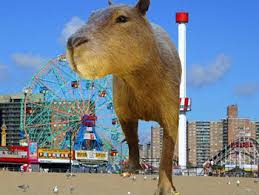capivara: (67, 1, 180, 194)
